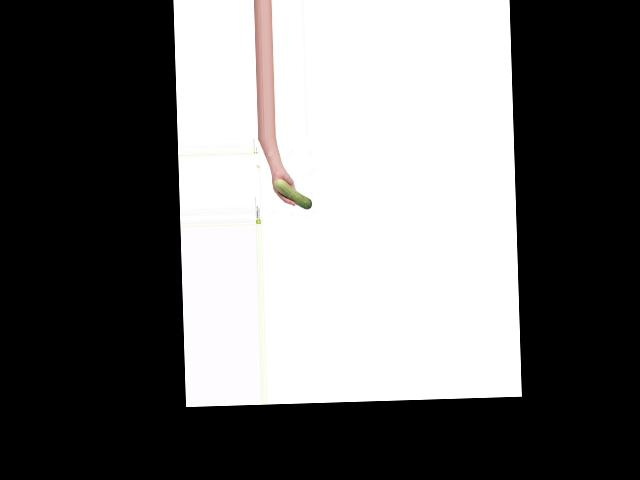cucumber: (274, 177, 311, 209)
